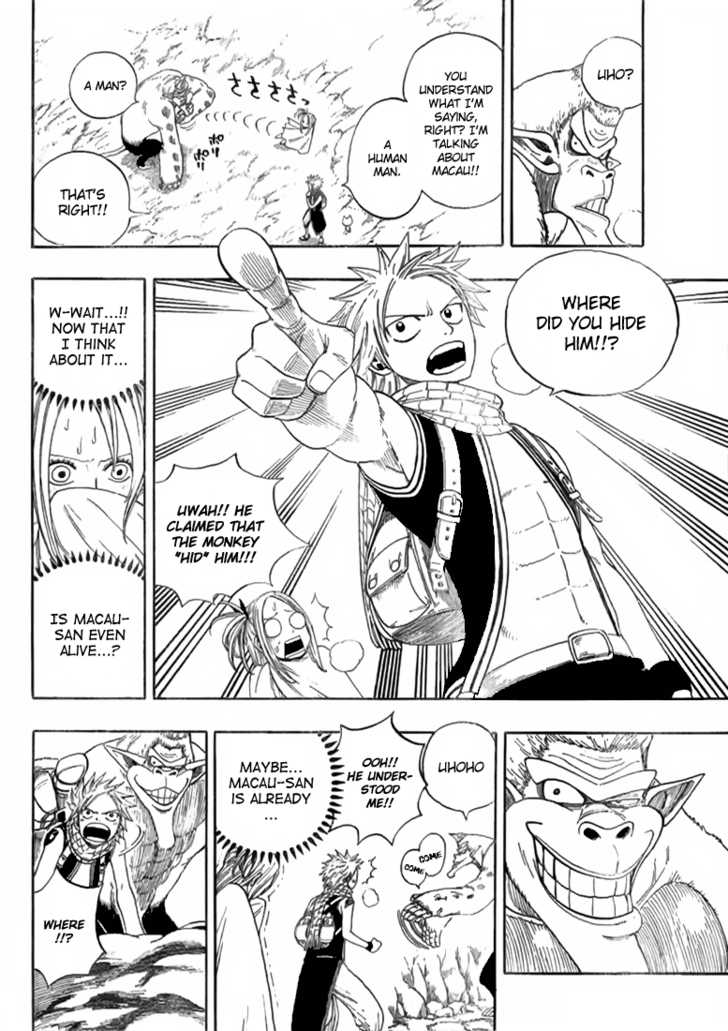bubble: (504, 250, 679, 395), (154, 453, 311, 607), (403, 33, 504, 208), (32, 561, 145, 700), (215, 731, 333, 854), (31, 279, 145, 401), (330, 711, 427, 845), (32, 151, 152, 247), (342, 99, 423, 219), (33, 867, 105, 988), (423, 722, 496, 819), (582, 37, 644, 114), (70, 51, 138, 119), (418, 833, 445, 876), (401, 850, 426, 888)
